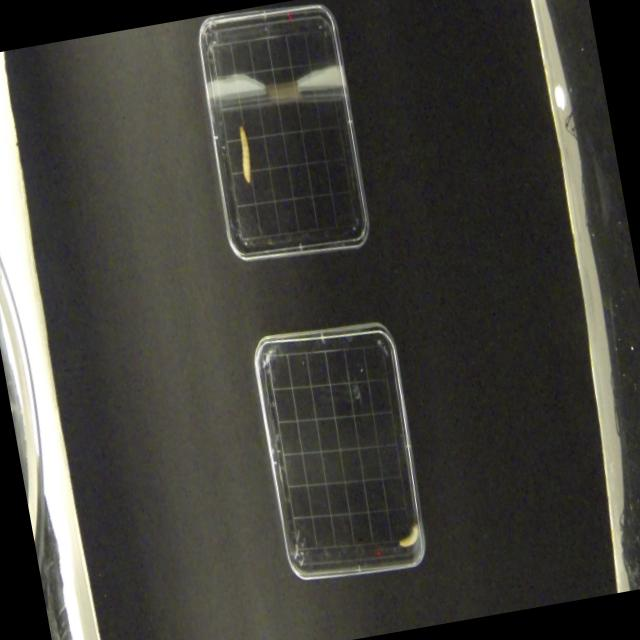larva: (231, 120, 261, 184), (393, 520, 422, 551)
